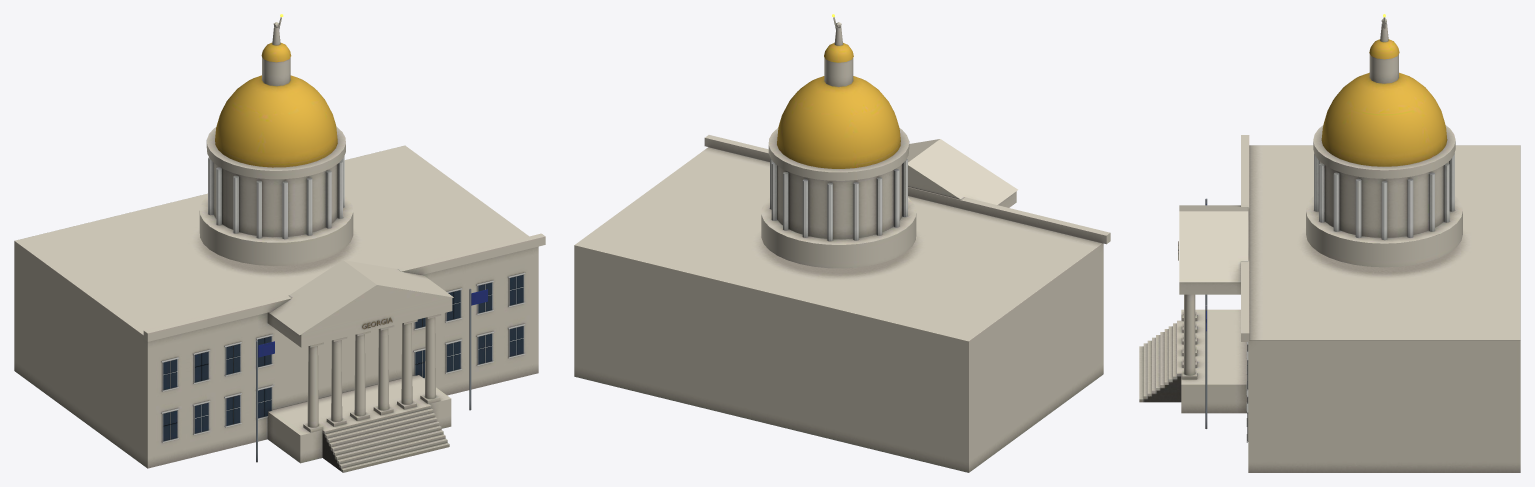
The model's file is capitolio_georgia.glb.
The picture shows the model from 3 angles, left to right: view 1: azimuth 30°, elevation 25°; view 2: azimuth 150°, elevation 25°; view 3: azimuth 270°, elevation 25°; orthographic projection. The views are drawn at different scales.
Parts seen in each view (by area): view 1: capitolio_georgia; view 2: capitolio_georgia; view 3: capitolio_georgia.
Boxes of the visible parts, box(x1,y1,x2,y2) form: capitolio_georgia: box(14, 14, 545, 472); capitolio_georgia: box(574, 14, 1110, 472); capitolio_georgia: box(1139, 14, 1520, 472).
Bounding box in the file's own units: 44.8 × 38.38 × 36.4.
1 material, 1 textured.
